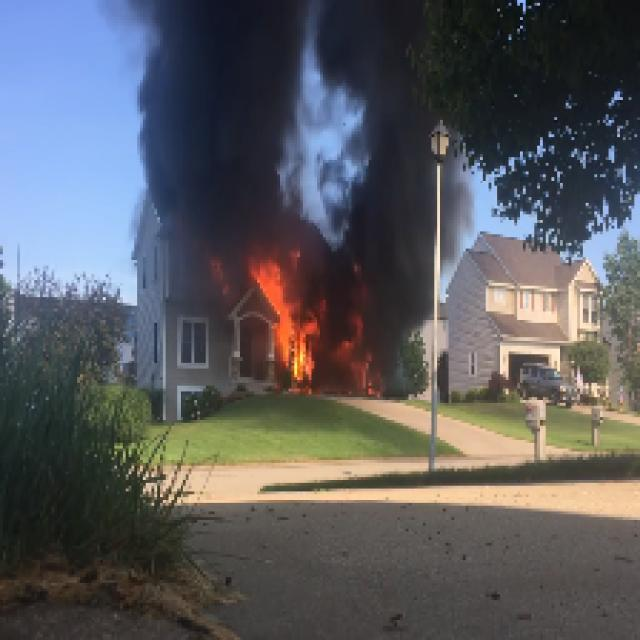fire: (248, 261, 312, 377)
smoke: (172, 3, 290, 229), (351, 159, 439, 347), (317, 12, 415, 128)
